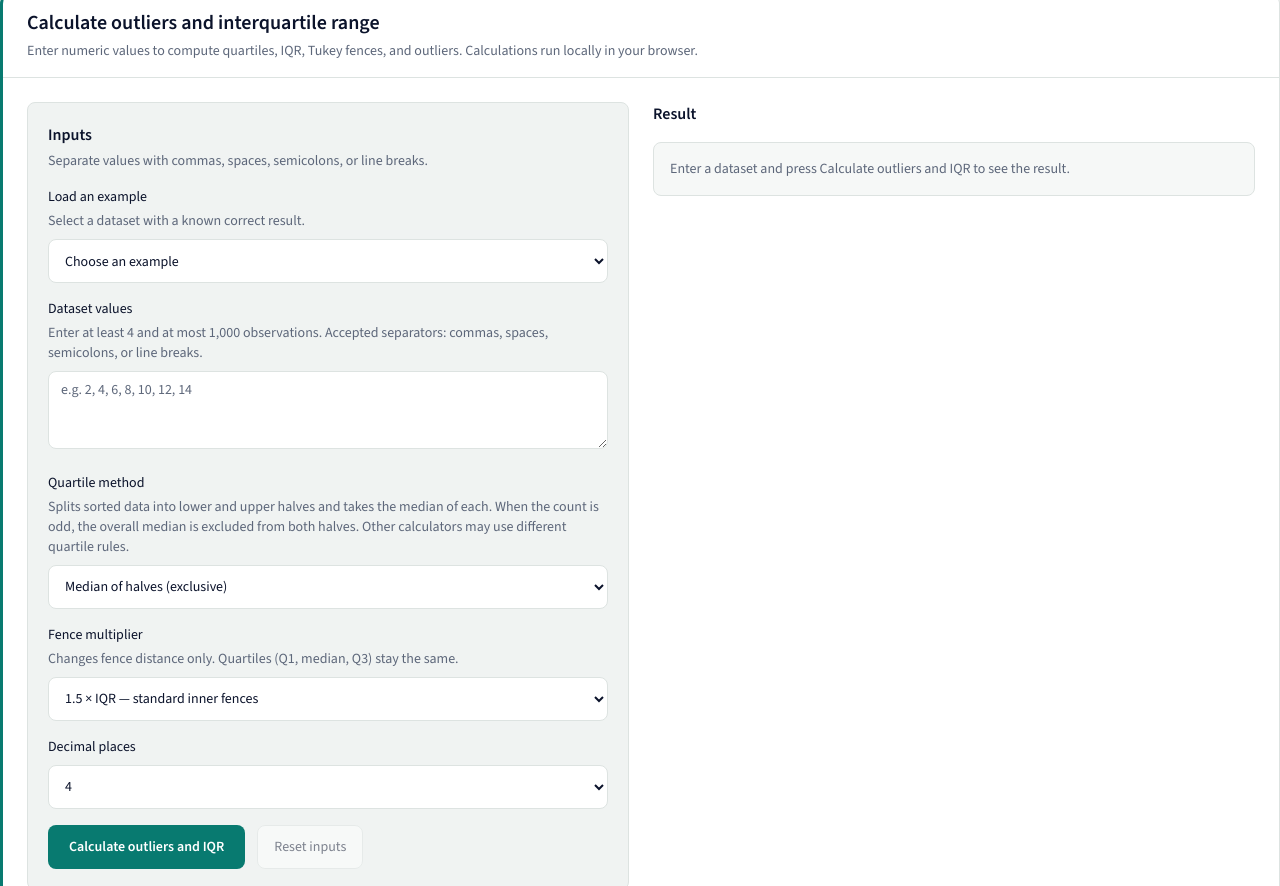
OutlierIqrCalculator calculation workflow › calculates with excel-r7 quartile method
Select "Excel-compatible percentile (INC)" in the dropdown labelled "Quartile method" at coordinates (328, 587), box [48, 565, 608, 609]
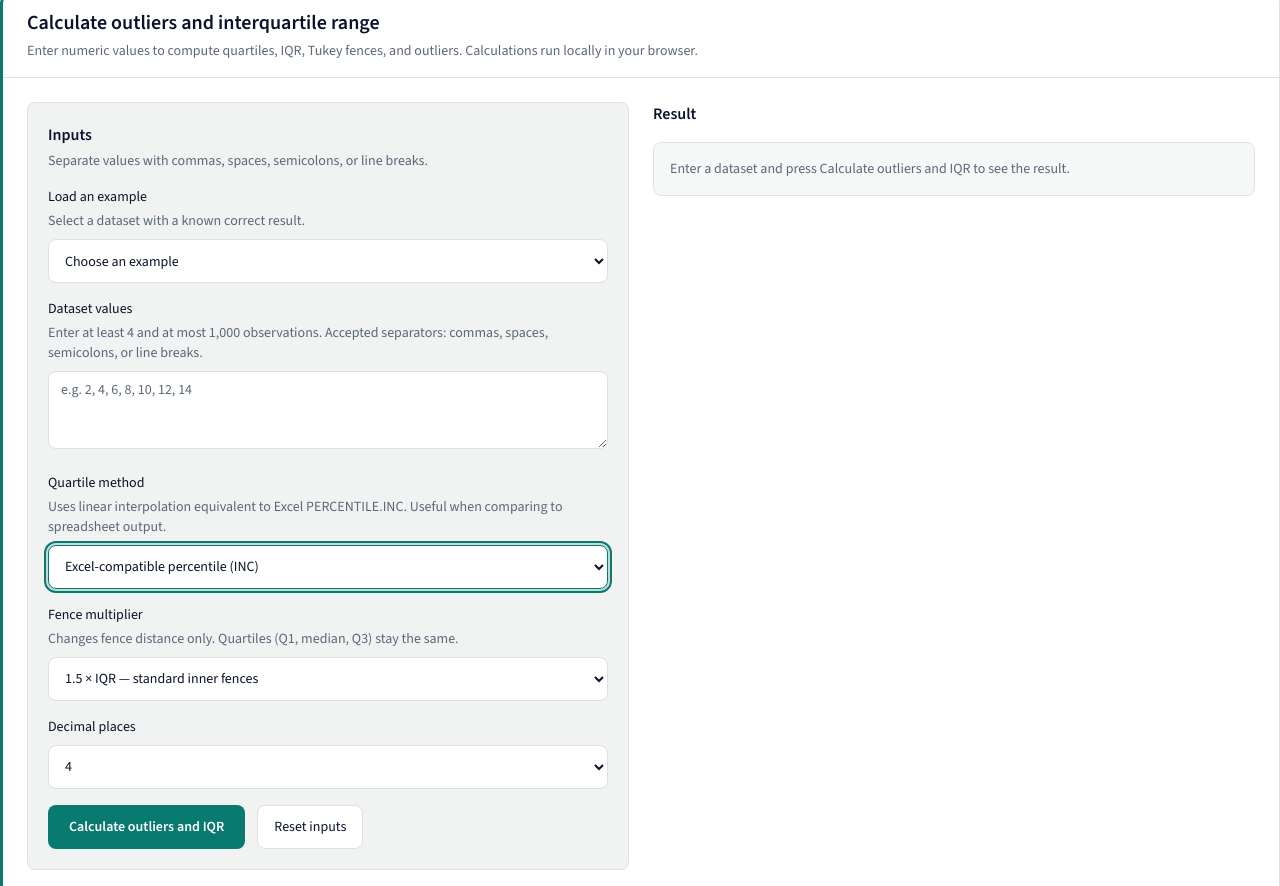
Type "10, 12, 14, 15, 19" into the text box labelled "Dataset values" at coordinates (328, 410), box [48, 371, 608, 449]
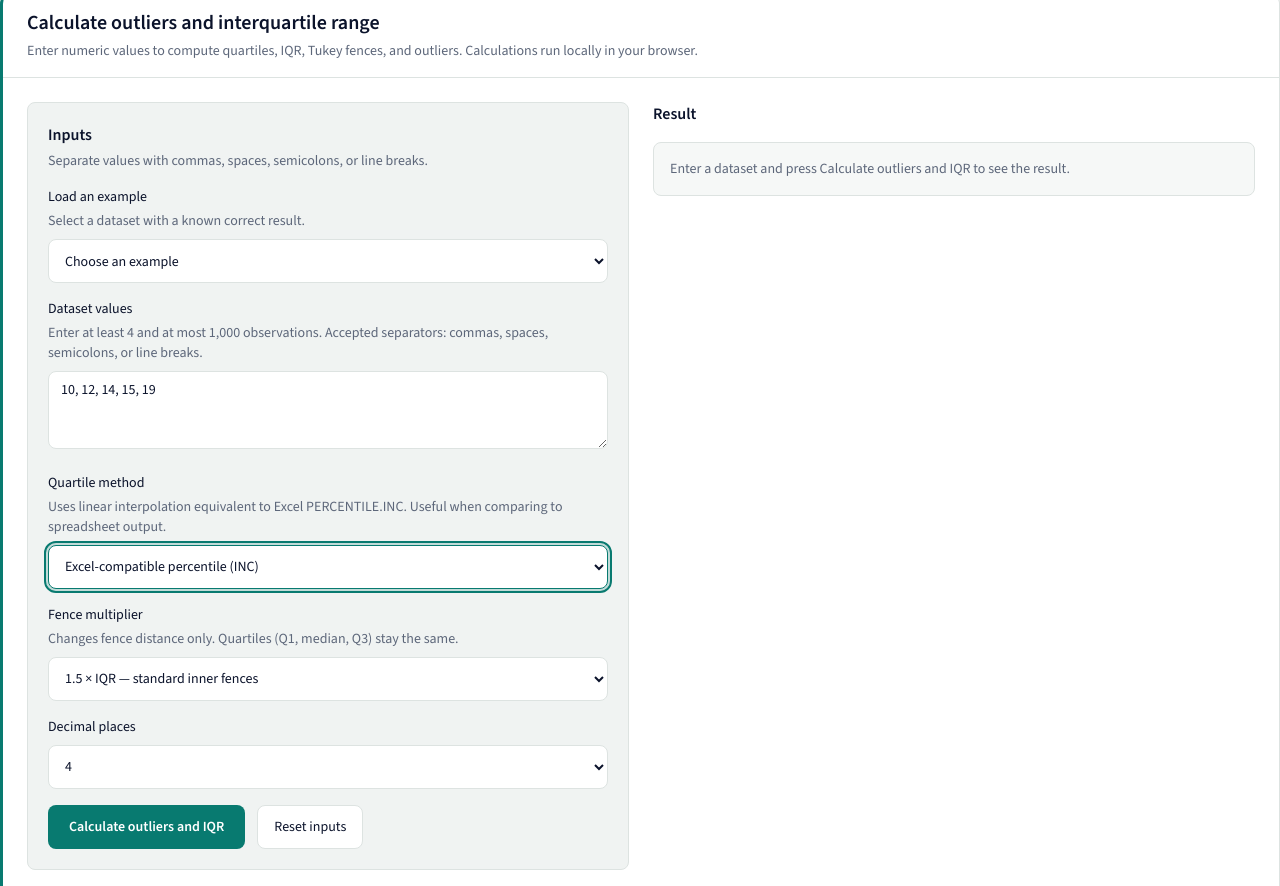
Click the button "Calculate outliers and IQR" at coordinates (147, 827), box [48, 805, 245, 849]
(page scrolled)
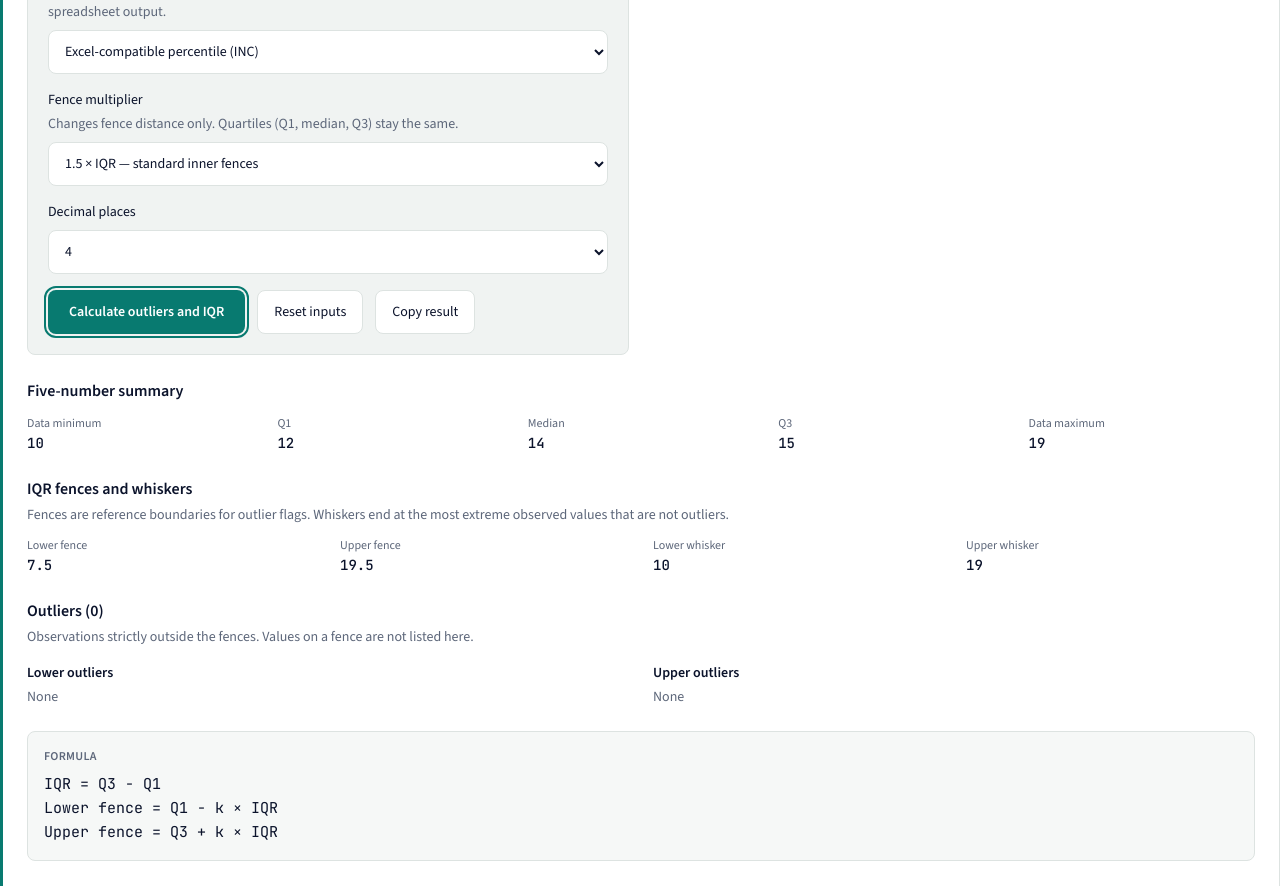
Check: the text "12" is shown, box [277, 434, 294, 452]
